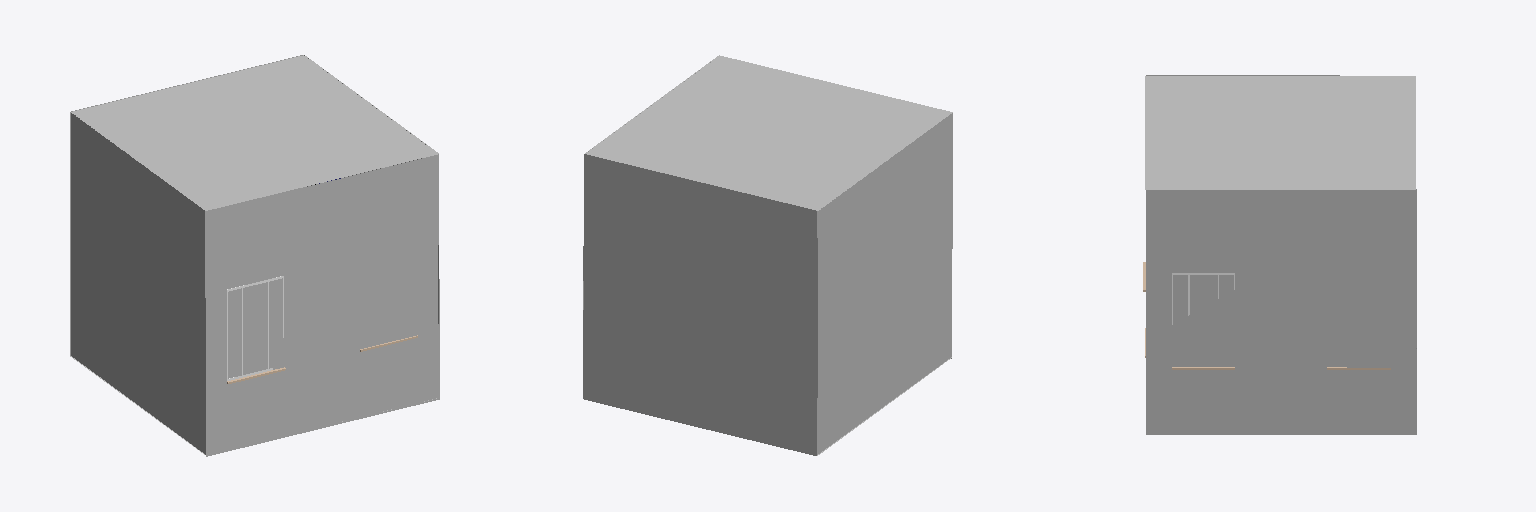
The model's file is jhg.obj.
3 renders of one model, left to right at view 1: azimuth 30°, elevation 25°; view 2: azimuth 150°, elevation 25°; view 3: azimuth 270°, elevation 25°, orthographic.
Visible parts, largest first — view 1: Plane.002_Plane.004, Plane.004_Plane.006, Plane.005_Plane.007, Window.006; view 2: Plane.001_Plane.003, Plane.004_Plane.006, Plane.005_Plane.007; view 3: Plane.003_Plane.005, Plane.005_Plane.007.
Part boxes in pixels (x1,y1,x2,y2): Plane.002_Plane.004: (205, 154, 439, 456); Plane.004_Plane.006: (71, 113, 205, 454); Plane.005_Plane.007: (71, 55, 438, 210); Window.006: (227, 276, 285, 383); Plane.001_Plane.003: (583, 154, 817, 455); Plane.004_Plane.006: (817, 113, 952, 454); Plane.005_Plane.007: (585, 55, 952, 210); Plane.003_Plane.005: (1146, 189, 1416, 434); Plane.005_Plane.007: (1145, 76, 1415, 189).
Bounding box in the file's own units: 12.88 × 12.89 × 12.96.